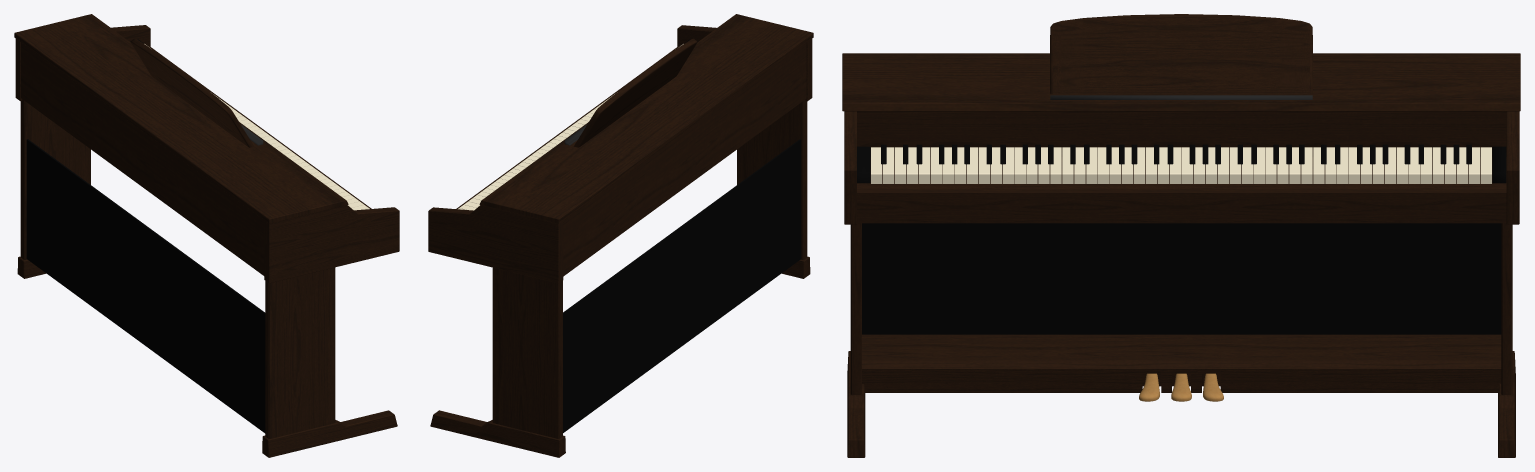
3 renders of one model, left to right at view 1: azimuth 30°, elevation 25°; view 2: azimuth 150°, elevation 25°; view 3: azimuth 270°, elevation 25°, orthographic. The views are drawn at different scales.
Visible parts, largest first — view 1: Cube.006, piano, Plane, Cube.004, Cube, Cube.003, score_stand, white_keys, Cube.002; view 2: Cube.006, piano, Plane, Cube.003, Cube.002, Cube.004, score_stand, white_keys, Cube; view 3: Cube.006, Plane, Cube.005, piano, score_stand, white_keys, black_keys, Cube.004, Cube.003, Cube.002, Cube, sheet_holder_piece.
Part boxes in pixels (x1=…): Cube.006: x1=26, y1=139, x2=265, y2=433; piano: x1=14, y1=14, x2=348, y2=223; Plane: x1=21, y1=42, x2=371, y2=275; Cube.004: x1=262, y1=267, x2=397, y2=457; Cube: x1=264, y1=205, x2=399, y2=283; Cube.003: x1=17, y1=99, x2=90, y2=278; score_stand: x1=130, y1=38, x2=253, y2=147; white_keys: x1=144, y1=44, x2=369, y2=210; Cube.002: x1=15, y1=25, x2=150, y2=100; Cube.006: x1=563, y1=139, x2=801, y2=432; piano: x1=479, y1=14, x2=813, y2=223; Plane: x1=456, y1=43, x2=806, y2=276; Cube.003: x1=430, y1=267, x2=565, y2=457; Cube.002: x1=428, y1=205, x2=563, y2=283; Cube.004: x1=737, y1=100, x2=810, y2=278; score_stand: x1=574, y1=38, x2=697, y2=147; white_keys: x1=458, y1=44, x2=683, y2=210; Cube: x1=677, y1=25, x2=812, y2=101; Cube.006: x1=862, y1=223, x2=1501, y2=334; Plane: x1=857, y1=111, x2=1506, y2=223; Cube.005: x1=862, y1=334, x2=1501, y2=392; piano: x1=842, y1=53, x2=1520, y2=111; score_stand: x1=1050, y1=14, x2=1312, y2=94; white_keys: x1=871, y1=147, x2=1491, y2=183; black_keys: x1=881, y1=144, x2=1471, y2=164; Cube.004: x1=847, y1=223, x2=865, y2=457; Cube.003: x1=1498, y1=223, x2=1515, y2=457; Cube.002: x1=1506, y1=111, x2=1519, y2=224; Cube: x1=844, y1=111, x2=856, y2=224; sheet_holder_piece: x1=1050, y1=95, x2=1312, y2=99.
Size of the model in its own units: 35.96 by 75.48 by 121.
7 materials, 2 textured.
